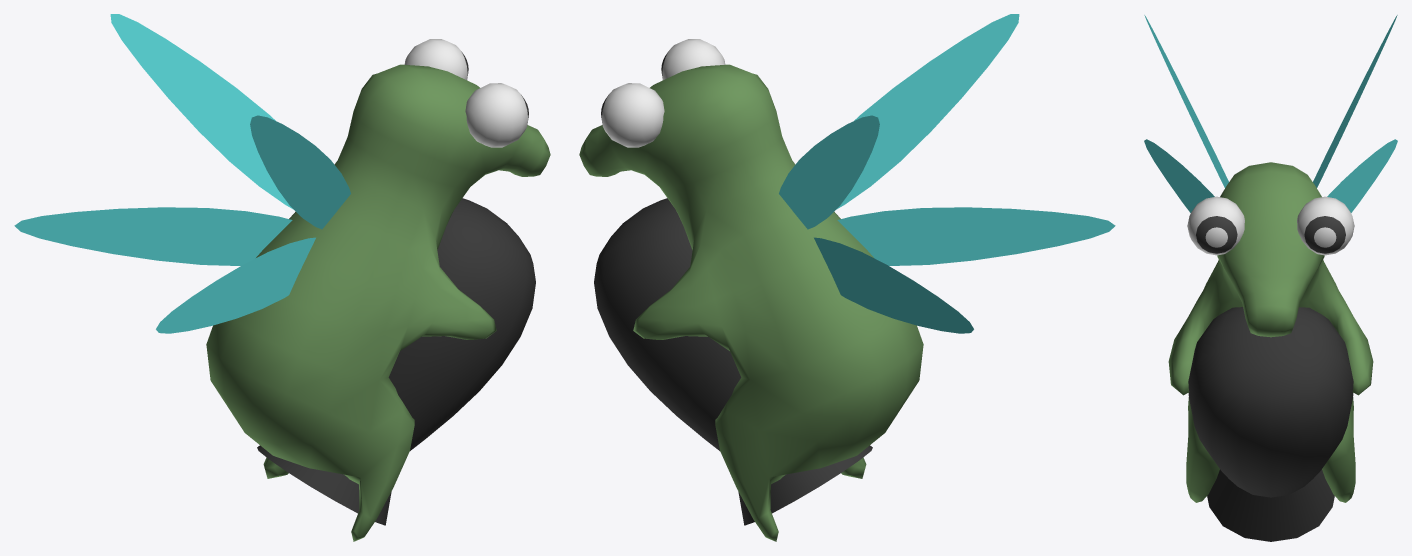
Rendered from bomber.fbx.
The picture shows the model from 3 angles, left to right: view 1: azimuth 30°, elevation 25°; view 2: azimuth 150°, elevation 25°; view 3: azimuth 270°, elevation 25°; orthographic projection. The views are drawn at different scales.
Parts seen in each view (by area): view 1: Cube.003; view 2: Cube.003; view 3: Cube.003.
Boxes of the visible parts, x1,y1,x2,y2 form: Cube.003: [14, 14, 550, 541]; Cube.003: [579, 14, 1115, 541]; Cube.003: [1144, 15, 1397, 541].
Bounding box in the file's own units: 215 × 222 × 115.
